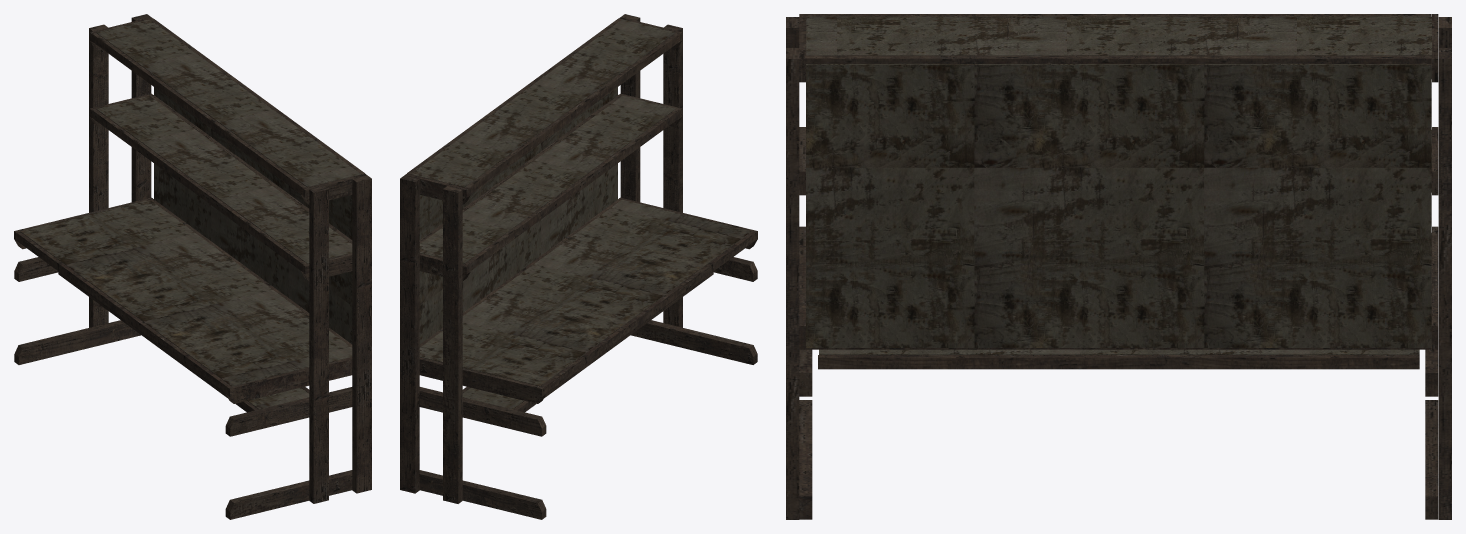
File: desktop.FBX
3 views of the same model, side by side, from view 1: azimuth 30°, elevation 25°; view 2: azimuth 150°, elevation 25°; view 3: azimuth 270°, elevation 25° (orthographic). The views are drawn at different scales.
Visible parts, largest first — view 1: desktop_desktop_MDF; view 2: desktop_desktop_MDF; view 3: desktop_desktop_MDF.
Part boxes in pixels (x1,y1,x2,y2): desktop_desktop_MDF: [14, 14, 371, 519]; desktop_desktop_MDF: [400, 14, 757, 519]; desktop_desktop_MDF: [786, 14, 1451, 519].
Size of the model in its own units: 4.85 by 10.41 by 13.6.
